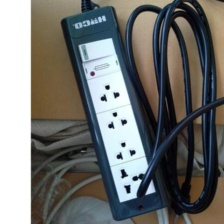three_eye_plug: (57, 3, 174, 222)
